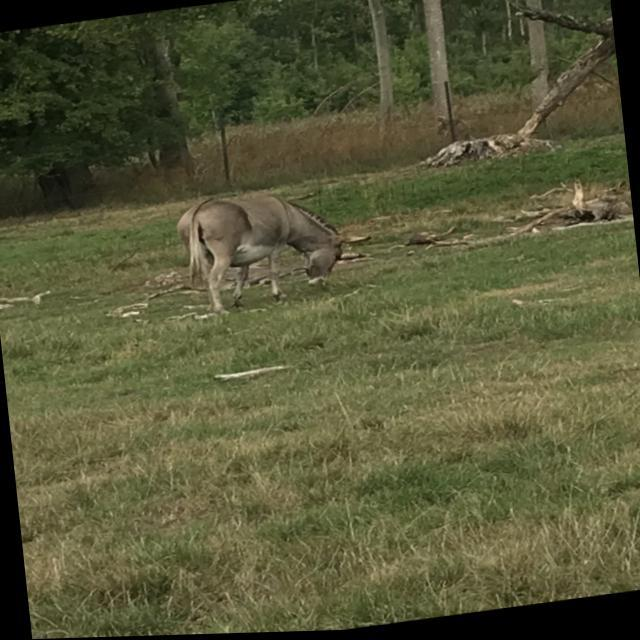Donkey: (170, 176, 378, 321)
